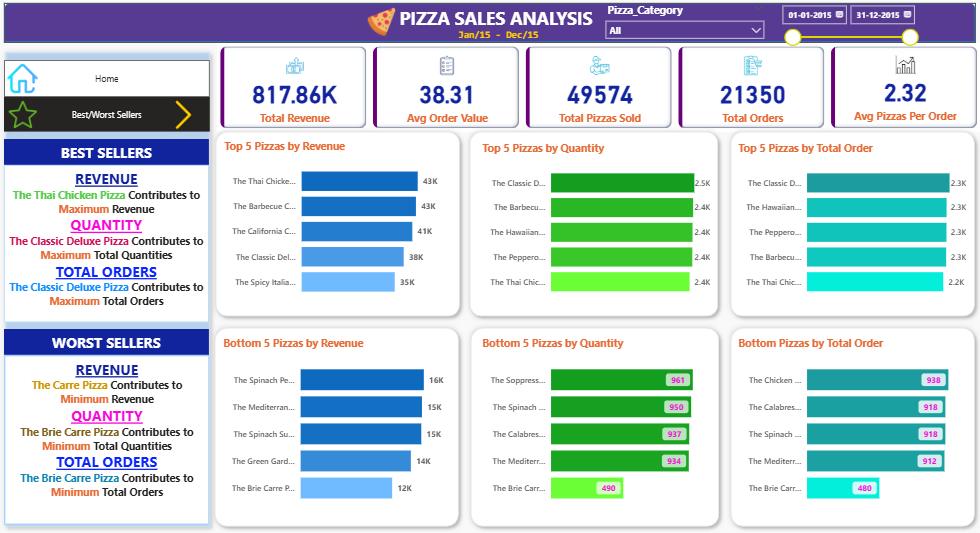

The dashboard page shown, as its layout file describes it:
{"tool":"powerbi","page":{"name":"Best/Worst Sellers","canvas":[1500,820],"ordinal":1},"visuals":[{"type":"cardVisual","fields":{"Data":["pizza_sales csv.Total Revenue","pizza_sales csv.Avg Order Value","pizza_sales csv.Total Pizzas Sold","pizza_sales csv.Total Orders","pizza_sales csv.Avg Pizzas Per Order"]},"box":[335.9,71.1,1155.9,134.6],"z":0},{"type":"shape","box":[13.6,10.2,1469.9,59.5],"z":1000},{"type":"textbox","box":[521.7,10,471.7,60],"z":2000},{"type":"textbox","box":[695.9,43.9,174,31.8],"z":3000},{"type":"image","box":[555,10,68.3,55],"z":4000},{"type":"shape","box":[325,196.7,386.7,296.7],"z":5000},{"type":"shape","box":[6.7,75,328.3,736.7],"z":6000},{"type":"textbox","box":[13.6,216.1,309.6,39.1],"z":7000},{"type":"textbox","box":[13.6,255.2,309.6,238.2],"z":8000},{"type":"textbox","box":[13.6,503.6,309.6,39.1],"z":9000},{"type":"slicer","fields":{"Values":["pizza_sales csv.pizza_category"]},"box":[913.6,5.1,260.3,59.5],"z":10000},{"type":"slicer","fields":{"Values":["pizza_sales csv.order_date"]},"box":[1178.6,4.5,226.9,92.3],"z":11000},{"type":"shape","box":[710,196.7,393.3,296.7],"z":12000},{"type":"shape","box":[1105,196.7,386.7,296.7],"z":13000},{"type":"shape","box":[323.3,493.3,386.7,318.3],"z":14000},{"type":"shape","box":[711.7,493.3,393.3,318.3],"z":15000},{"type":"shape","box":[1105,493.3,386.7,318.3],"z":16000},{"type":"barChart","title":"Bottom 5 Pizzas by Revenue","fields":{"Category":["pizza_sales csv.pizza_name"],"Y":["pizza_sales csv.Total Revenue"]},"box":[340,515,355,268.3],"z":17000},{"type":"barChart","title":"Top 5 Pizzas by Quantity","fields":{"Category":["pizza_sales csv.pizza_name"],"Y":["pizza_sales csv.Total Pizzas Sold"]},"box":[731.7,220,355,248.3],"z":18000},{"type":"barChart","title":"Bottom 5 Pizzas by Quantity","fields":{"Category":["pizza_sales csv.pizza_name"],"Y":["pizza_sales csv.Total Pizzas Sold"]},"box":[731.7,515,355,268.3],"z":19000},{"type":"barChart","title":"Top 5 Pizzas by Total Order","fields":{"Category":["pizza_sales csv.pizza_name"],"Y":["pizza_sales csv.Total Orders"]},"box":[1120,220,355,248.3],"z":20000},{"type":"barChart","title":"Bottom Pizzas by Total Order","fields":{"Category":["pizza_sales csv.pizza_name"],"Y":["pizza_sales csv.Total Orders"]},"box":[1120,515,355,268.3],"z":21000},{"type":"textbox","box":[13.6,542.7,311.3,256.9],"z":23000},{"type":"barChart","title":"Top 5 Pizzas by Revenue","fields":{"Category":["pizza_sales csv.pizza_name"],"Y":["pizza_sales csv.Total Revenue"]},"box":[341.2,215.9,352.7,252.2],"z":24000},{"type":"pageNavigator","box":[13.6,153.1,311.3,52.7],"z":25000},{"type":"pageNavigator","box":[13.6,97,311.3,56.1],"z":26000},{"type":"image","box":[248.4,153.1,74.9,54.4],"z":27000},{"type":"image","box":[13.6,97,56.1,56.1],"z":28000},{"type":"image","box":[13.6,153.1,56.1,52.7],"z":29000}]}

Visuals, with their boxes in screenshot pixels (x1, y1, x2, y2), scaled from the page's 1500x820 canvas onto the 980x533 screenshot:
cardVisual - pizza_sales csv.Total Revenue x pizza_sales csv.Avg Order Value: <box>219,46,975,134</box>
shape: <box>9,7,969,45</box>
textbox: <box>341,6,649,46</box>
textbox: <box>455,29,568,49</box>
image: <box>363,6,407,42</box>
shape: <box>212,128,465,321</box>
shape: <box>4,49,219,528</box>
textbox: <box>9,140,211,166</box>
textbox: <box>9,166,211,321</box>
textbox: <box>9,327,211,353</box>
slicer - pizza_sales csv.pizza_category: <box>597,3,767,42</box>
slicer - pizza_sales csv.order_date: <box>770,3,918,63</box>
shape: <box>464,128,721,321</box>
shape: <box>722,128,975,321</box>
shape: <box>211,321,464,528</box>
shape: <box>465,321,722,528</box>
shape: <box>722,321,975,528</box>
"Bottom 5 Pizzas by Revenue" barChart: <box>222,335,454,509</box>
"Top 5 Pizzas by Quantity" barChart: <box>478,143,710,304</box>
"Bottom 5 Pizzas by Quantity" barChart: <box>478,335,710,509</box>
"Top 5 Pizzas by Total Order" barChart: <box>732,143,964,304</box>
"Bottom Pizzas by Total Order" barChart: <box>732,335,964,509</box>
textbox: <box>9,353,212,520</box>
"Top 5 Pizzas by Revenue" barChart: <box>223,140,453,304</box>
pageNavigator: <box>9,100,212,134</box>
pageNavigator: <box>9,63,212,100</box>
image: <box>162,100,211,135</box>
image: <box>9,63,46,100</box>
image: <box>9,100,46,134</box>
